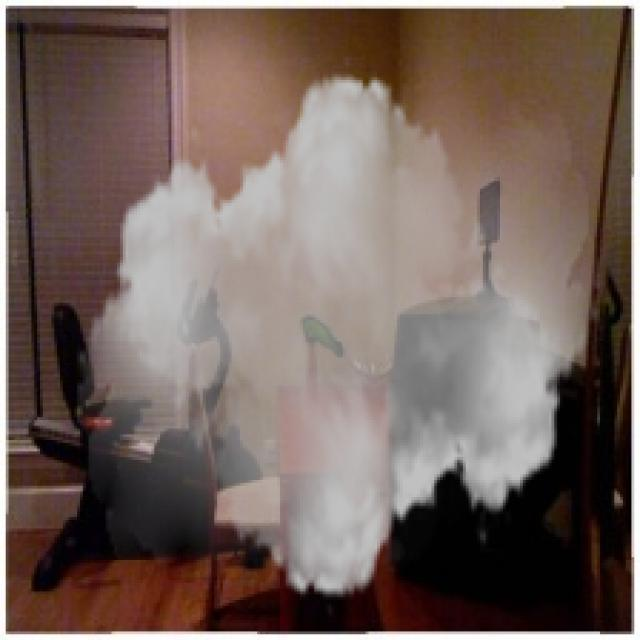smoke: (77, 51, 600, 620)
